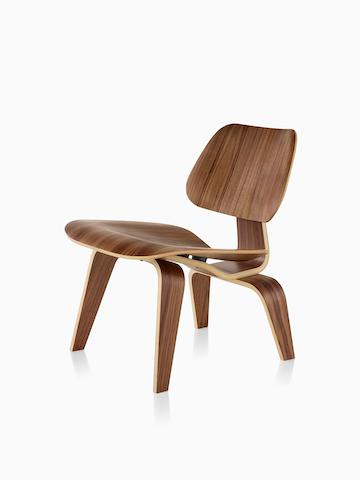chair: (50, 115, 311, 404)
